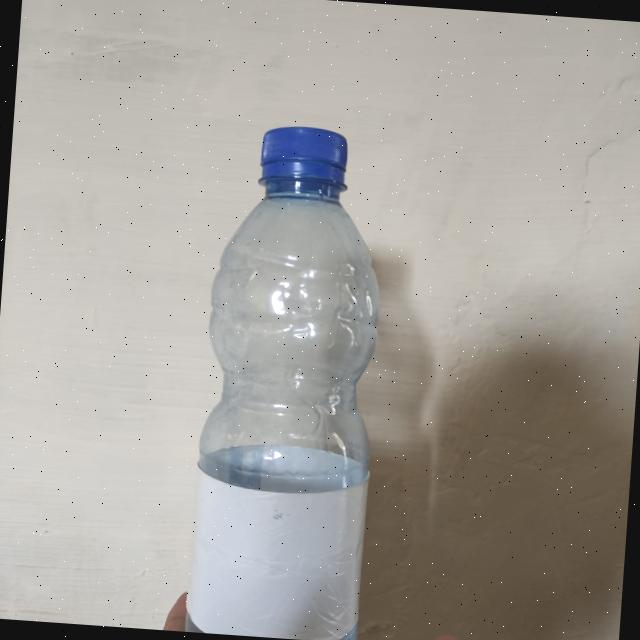bottle: (189, 83, 383, 640)
cap: (258, 128, 352, 196)
label: (178, 473, 367, 637)
